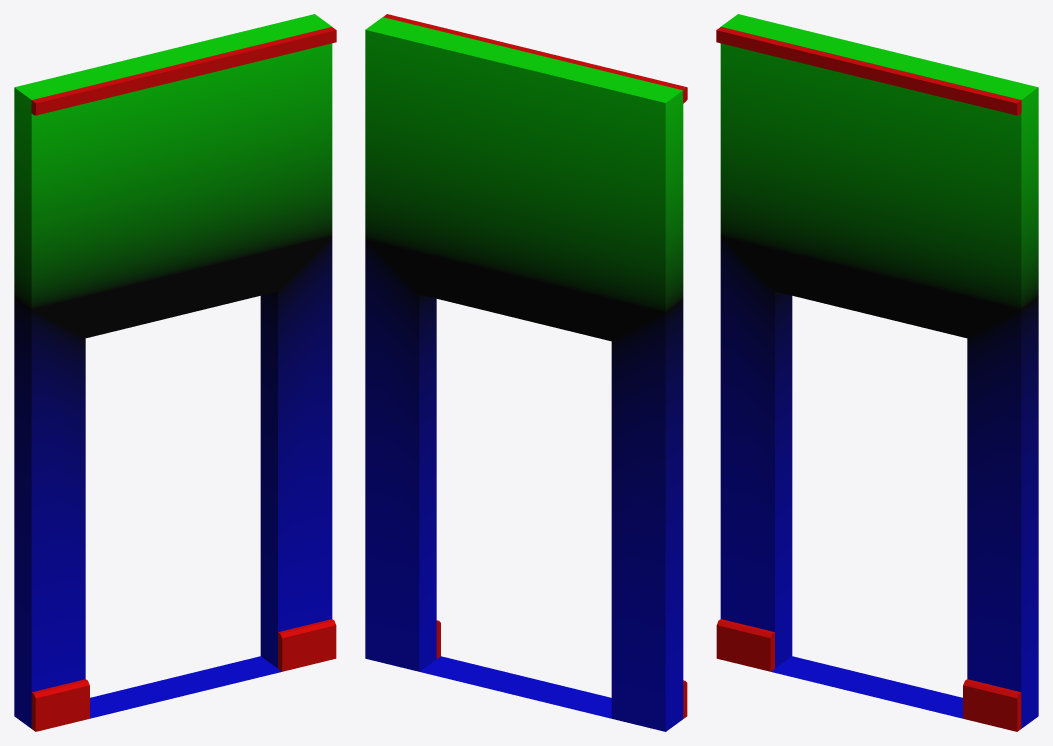
The model's file is WallV4_Doorhole.fbx.
3 views of the same model, side by side, from view 1: azimuth 30°, elevation 25°; view 2: azimuth 150°, elevation 25°; view 3: azimuth 330°, elevation 25° (orthographic).
Visible parts, largest first — view 1: WallV4_Doorhole; view 2: WallV4_Doorhole; view 3: WallV4_Doorhole.
Boxes of the visible parts, x1,y1,x2,y2 form: WallV4_Doorhole: (14,14,336,731); WallV4_Doorhole: (365,14,687,731); WallV4_Doorhole: (716,14,1038,731).
Bounding box in the file's own units: 200 × 400 × 25.17.
